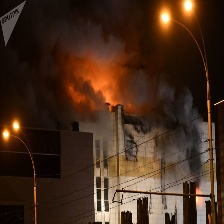fire: (96, 88, 118, 105)
smoke: (25, 23, 206, 118), (156, 82, 205, 185)
